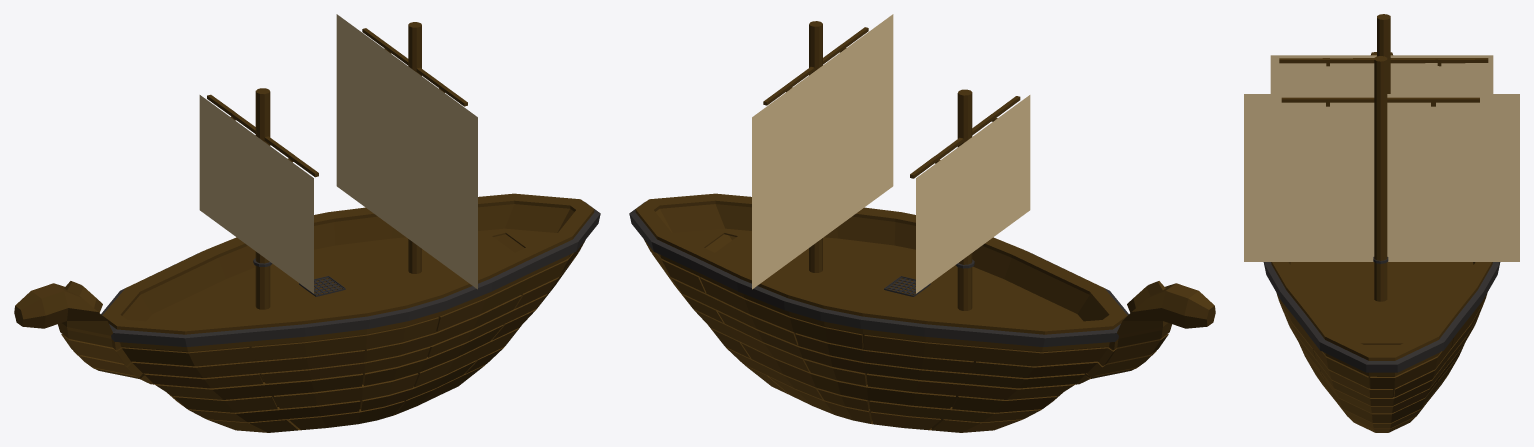
The model's file is Ship.glb.
3 views of the same model, side by side, from view 1: azimuth 30°, elevation 25°; view 2: azimuth 150°, elevation 25°; view 3: azimuth 270°, elevation 25° (orthographic). The views are drawn at different scales.
Visible parts, largest first — view 1: boat; view 2: boat; view 3: boat.
Part boxes in pixels (x1,y1,x2,y2): boat: (14,14,600,432); boat: (629,14,1215,432); boat: (1244,14,1519,432).
Size of the model in its own units: 41.65 by 24.86 by 17.75.
